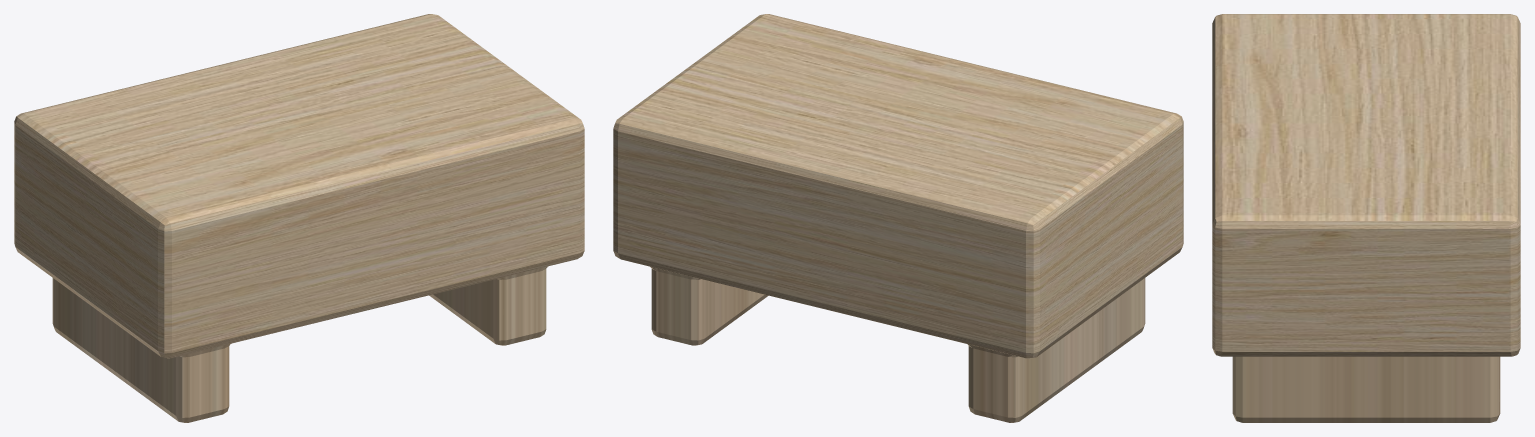
File: Kursi Kecil.fbx
The picture shows the model from 3 angles, left to right: view 1: azimuth 30°, elevation 25°; view 2: azimuth 150°, elevation 25°; view 3: azimuth 270°, elevation 25°; orthographic projection.
Visible parts, largest first — view 1: Kursi Kecil; view 2: Kursi Kecil; view 3: Kursi Kecil.
Boxes of the visible parts, x1=… form: Kursi Kecil: x1=14, y1=14, x2=584, y2=422; Kursi Kecil: x1=613, y1=14, x2=1183, y2=422; Kursi Kecil: x1=1212, y1=14, x2=1520, y2=422.
Bounding box in the file's own units: 103 × 50.47 × 63.82.
